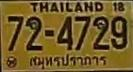2: (26, 16, 42, 50), (93, 16, 109, 49)
4: (58, 16, 73, 50)
7: (7, 15, 23, 50), (74, 16, 90, 50)
9: (111, 16, 127, 49)
SPK: (27, 53, 108, 69)
